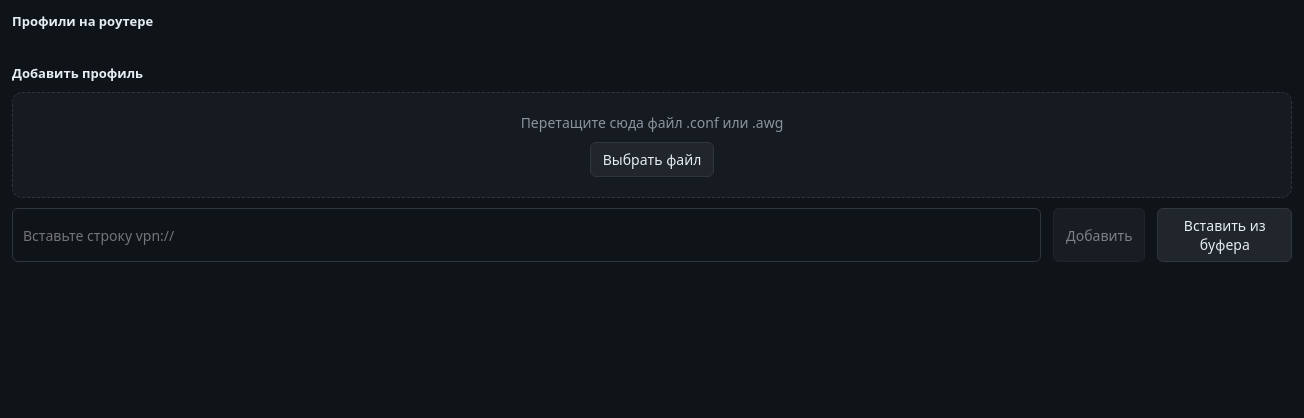
Test: Profiles › shows the router message for an admin profile string
Type "vpn://x" into the field with placeholder "Вставьте строку vpn://". click: (526, 235)
box: [12,208,1041,262]
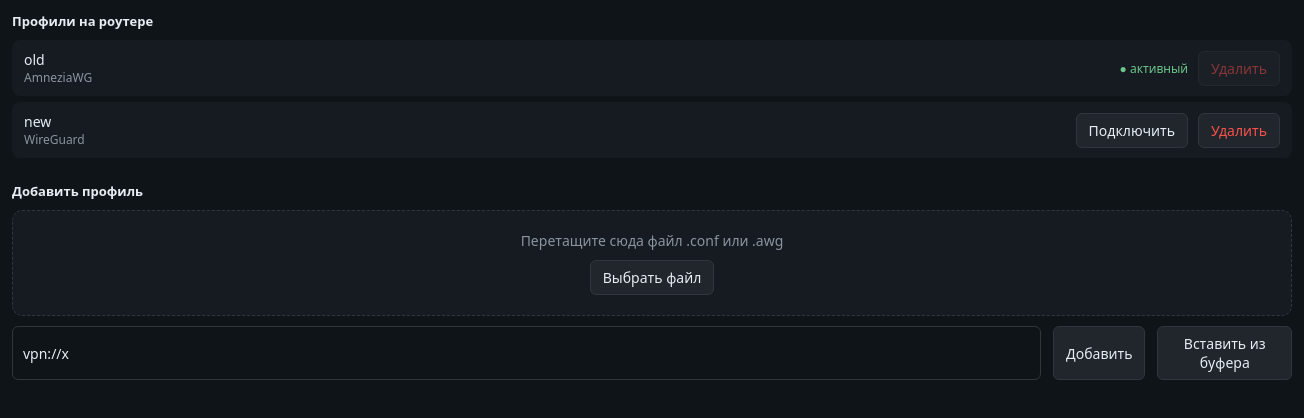
Click the button "Добавить". click: (1099, 353)
box: [1053,326,1145,380]
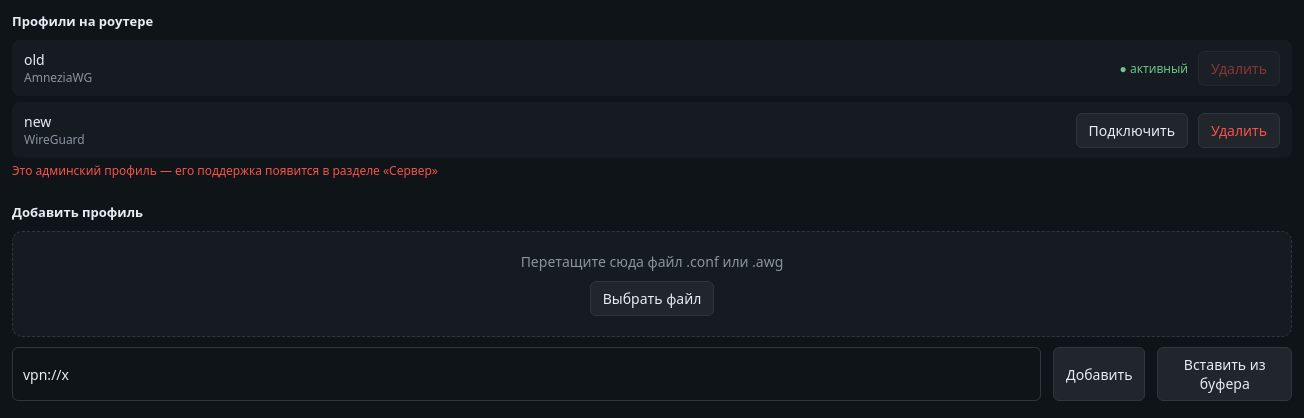
Now the text "Это админский профиль — его поддержка появится в разделе «Сервер»" is shown, box [12,162,438,179]
